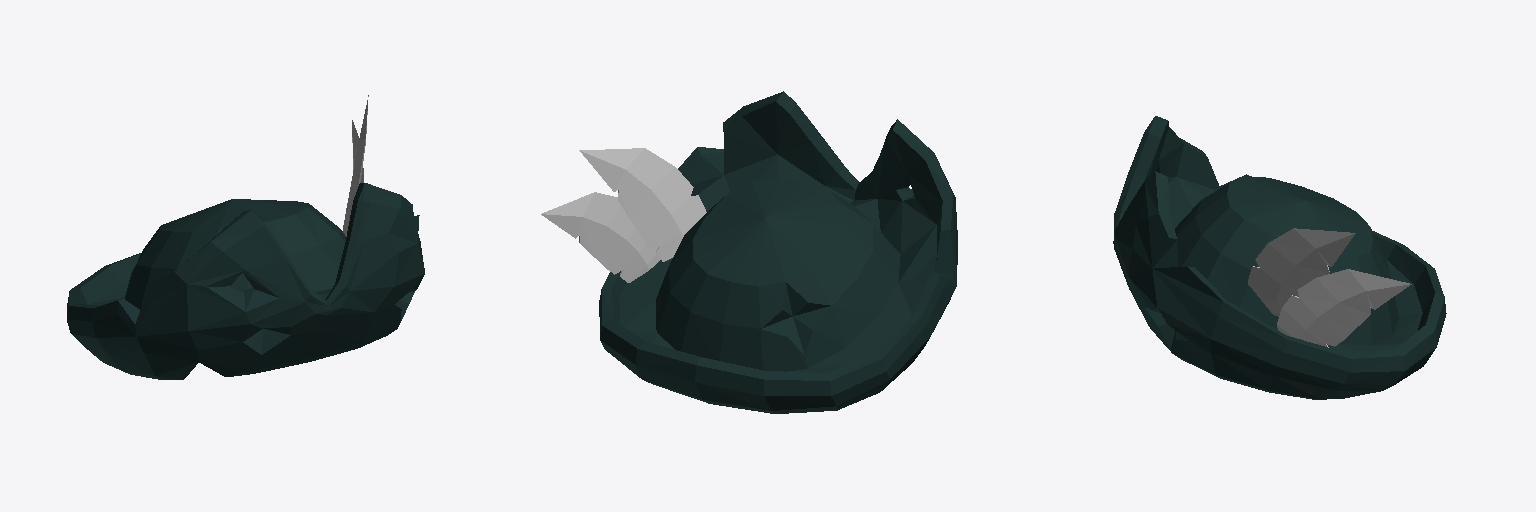
The model's file is character_pirateGhost_hat.obj.
3 renders of one model, left to right at view 1: azimuth 30°, elevation 25°; view 2: azimuth 150°, elevation 25°; view 3: azimuth 270°, elevation 25°, orthographic.
Parts seen in each view (by area): view 1: character_pirateGhost_hat_Cube.199; view 2: character_pirateGhost_hat_Cube.199; view 3: character_pirateGhost_hat_Cube.199.
Part boxes in pixels (left/top/right/bottom): character_pirateGhost_hat_Cube.199: left=67, top=95, right=424, bottom=379; character_pirateGhost_hat_Cube.199: left=541, top=91, right=957, bottom=413; character_pirateGhost_hat_Cube.199: left=1113, top=116, right=1446, bottom=399.
Bounding box in the file's own units: 1.62 × 1.03 × 1.44.